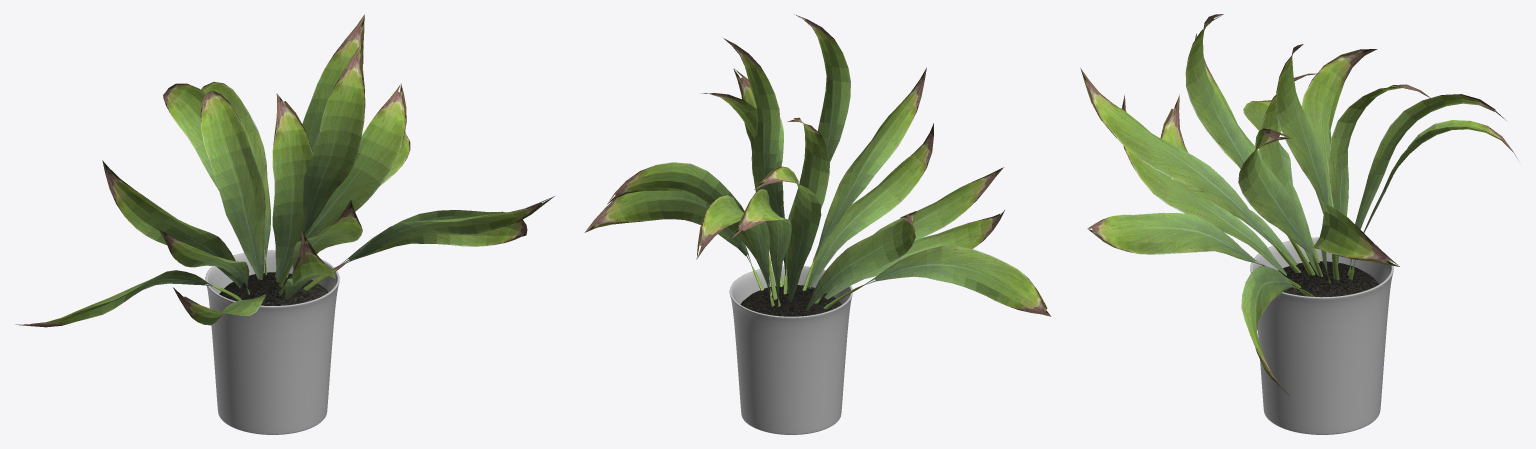
File: Plant N310122.obj
3 views of the same model, side by side, from view 1: azimuth 30°, elevation 25°; view 2: azimuth 150°, elevation 25°; view 3: azimuth 270°, elevation 25° (orthographic). The views are drawn at different scales.
Parts seen in each view (by area): view 1: Plant_N310122; view 2: Plant_N310122; view 3: Plant_N310122.
Part boxes in pixels (<box>): Plant_N310122: <box>15,14,554,434</box>; Plant_N310122: <box>584,14,1051,434</box>; Plant_N310122: <box>1080,14,1518,434</box>.
Bounding box in the file's own units: 548 × 402 × 384.
